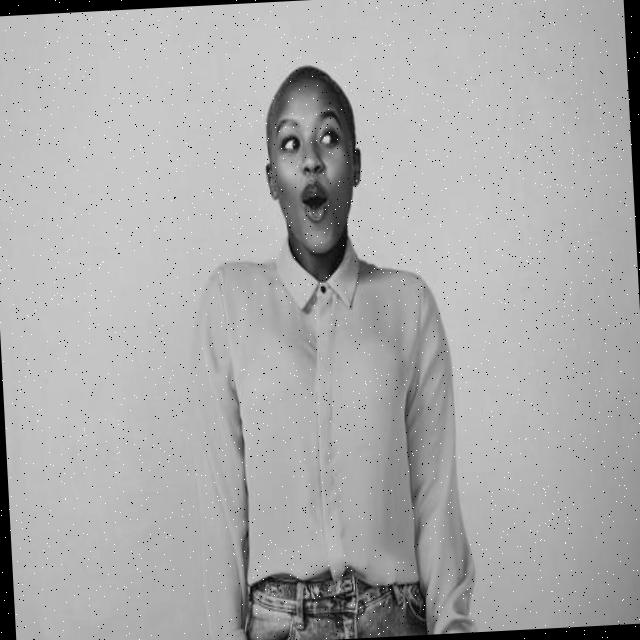Surprised: (266, 77, 358, 260)
